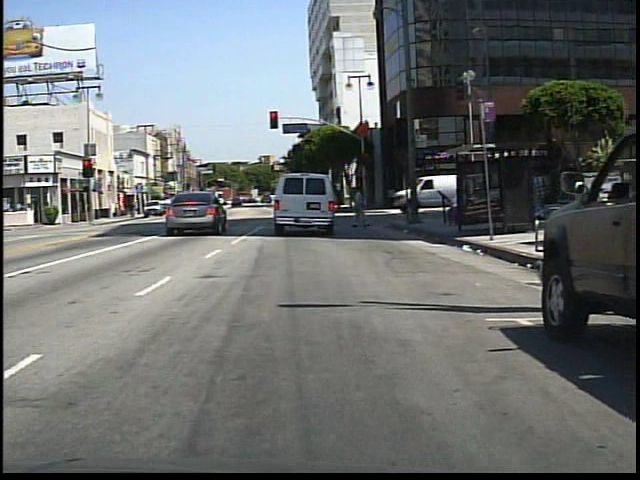person: (350, 183, 374, 232), (176, 192, 191, 218)
